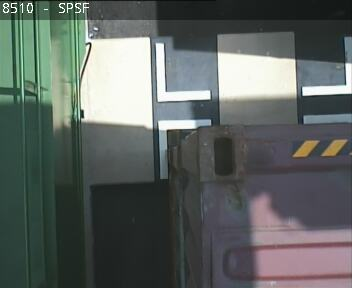groundmarker_1: (155, 41, 210, 178)
